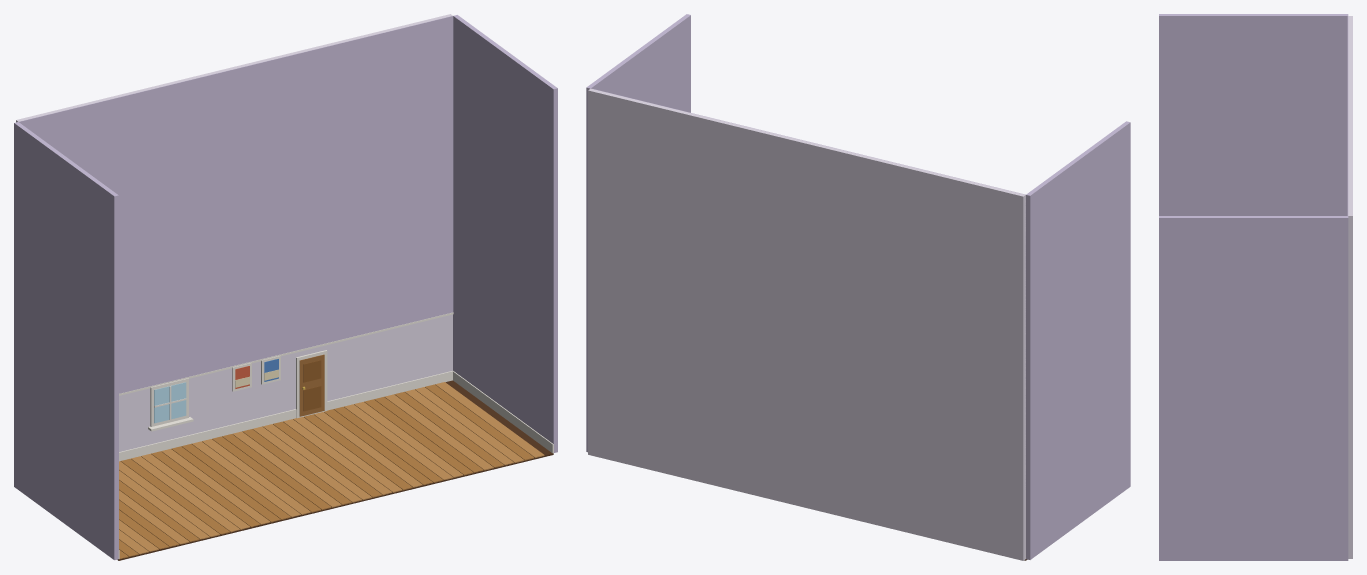
The model's file is room_franca_wood.glb.
The picture shows the model from 3 angles, left to right: view 1: azimuth 30°, elevation 25°; view 2: azimuth 150°, elevation 25°; view 3: azimuth 270°, elevation 25°; orthographic projection. The views are drawn at different scales.
Visible parts, largest first — view 1: room; view 2: room; view 3: room.
Boxes of the visible parts, bbox=[...] form: room: bbox=[14, 14, 557, 560]; room: bbox=[586, 14, 1130, 560]; room: bbox=[1159, 14, 1352, 560].
Size of the model in its own units: 30.6 by 24.11 by 12.3.
